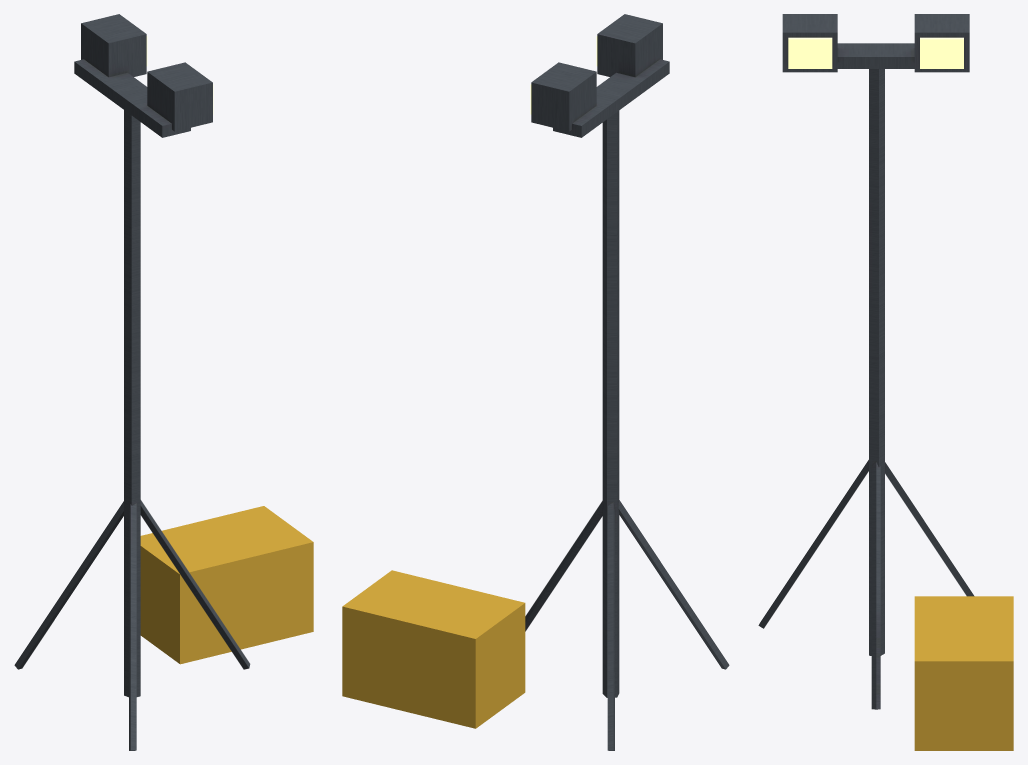
The model's file is stralkastare_tex.glb.
3 views of the same model, side by side, from view 1: azimuth 30°, elevation 25°; view 2: azimuth 150°, elevation 25°; view 3: azimuth 270°, elevation 25° (orthographic).
Parts seen in each view (by area): view 1: stralkastare; view 2: stralkastare; view 3: stralkastare.
Part boxes in pixels (x1,y1,x2,y2): stralkastare: (14,14,313,750); stralkastare: (342,14,729,750); stralkastare: (758,14,1013,750).
Bounding box in the file's own units: 2.73 × 6.42 × 2.32.
Materials: 3 (1 with a texture image).
